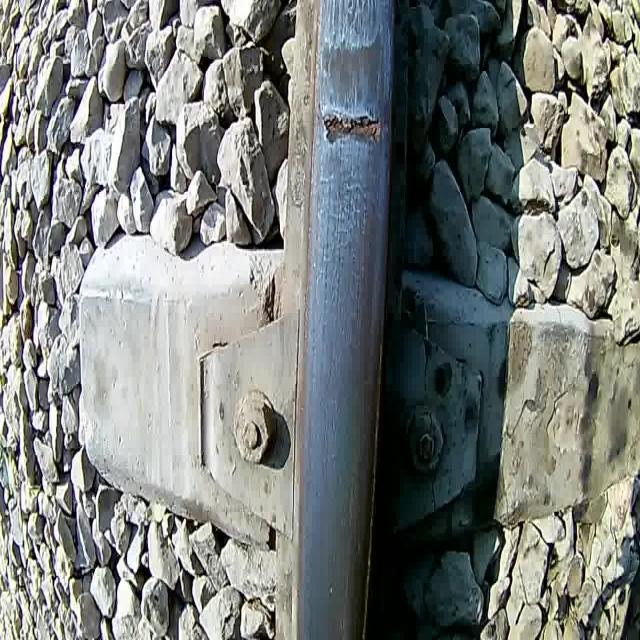Spallings: (320, 107, 388, 155)
Squats: (315, 0, 399, 121)
